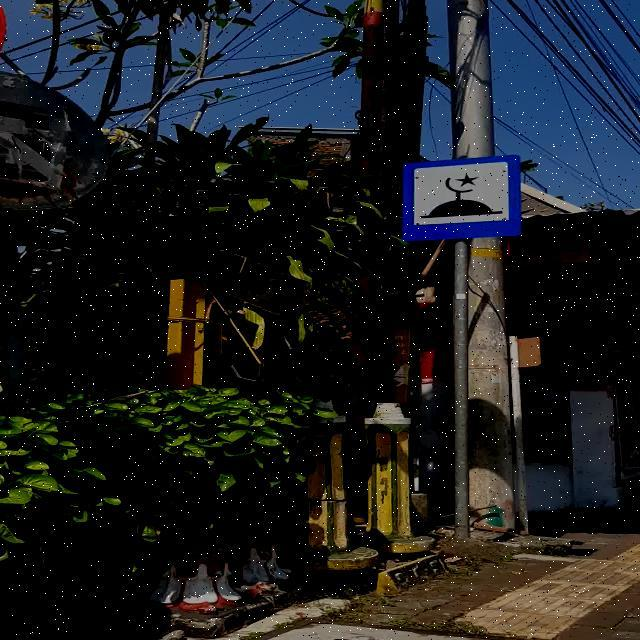Masjid: (402, 154, 522, 242)
